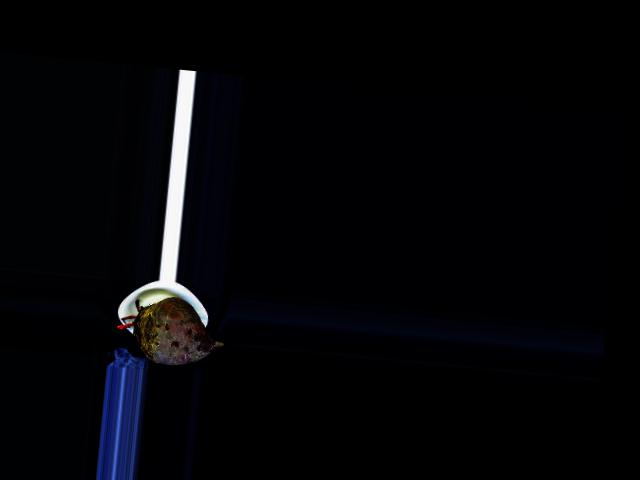beet: (113, 292, 226, 368)
